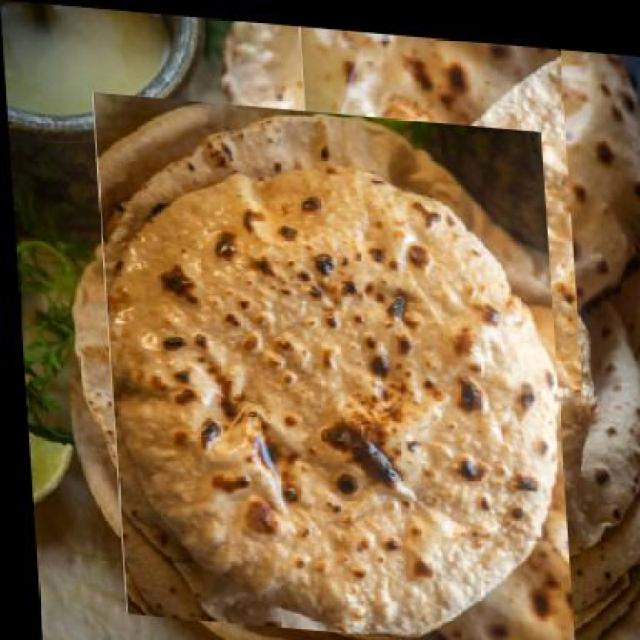chapati: (75, 108, 587, 629), (260, 18, 617, 345)
